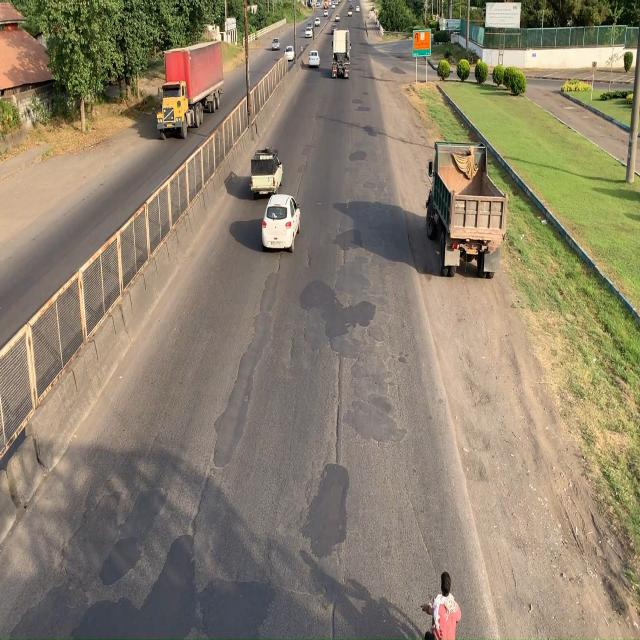Truck: (155, 37, 224, 142)
cars: (262, 193, 301, 260), (248, 140, 284, 199)
